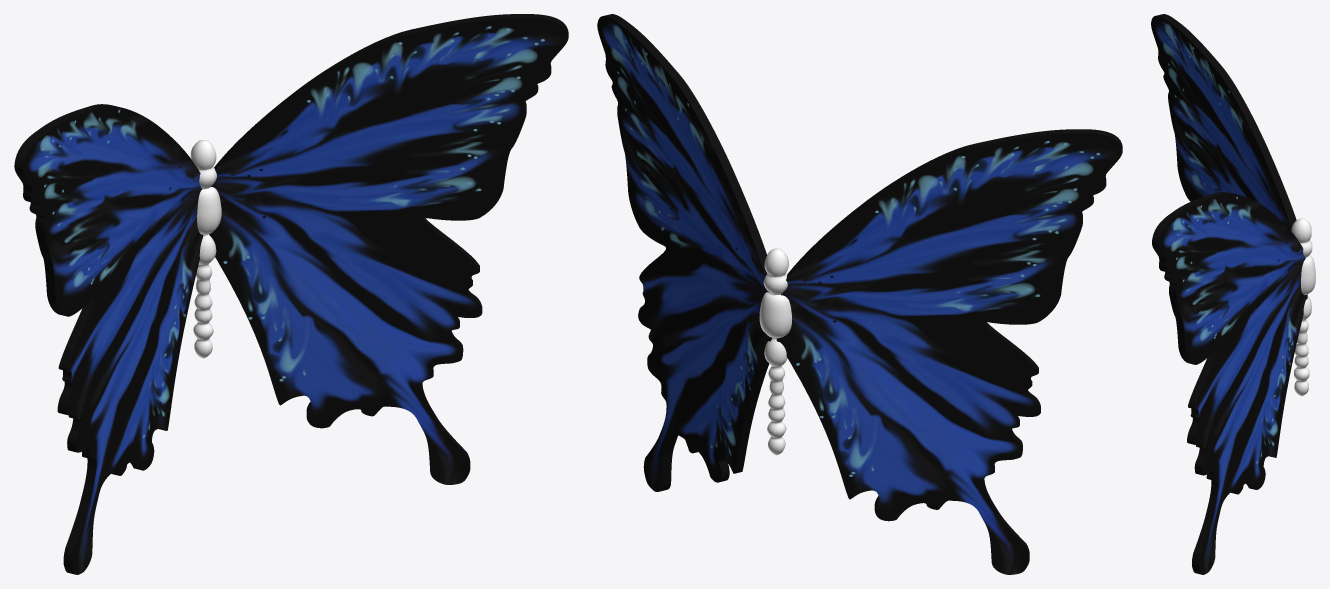
Rendered from butterfly1.gltf.
The picture shows the model from 3 angles, left to right: view 1: azimuth 30°, elevation 25°; view 2: azimuth 150°, elevation 25°; view 3: azimuth 270°, elevation 25°; orthographic projection. The views are drawn at different scales.
Visible parts, largest first — view 1: butterfly wing right, butterfly wing left, butterfly body; view 2: butterfly wing left, butterfly wing right, butterfly body; view 3: butterfly wing right, butterfly wing left, butterfly body.
Part boxes in pixels (<box>): butterfly wing right: <box>209,14,568,484</box>; butterfly wing left: <box>14,104,203,574</box>; butterfly body: <box>190,140,221,358</box>; butterfly wing left: <box>776,129,1122,574</box>; butterfly wing right: <box>597,14,771,491</box>; butterfly body: <box>759,248,792,455</box>; butterfly wing right: <box>1152,192,1307,574</box>; butterfly wing left: <box>1151,14,1296,230</box>; butterfly body: <box>1291,218,1315,396</box>.
Bounding box in the file's own units: 2.32 × 1.88 × 0.7357.
Materials: 2 (1 with a texture image).
